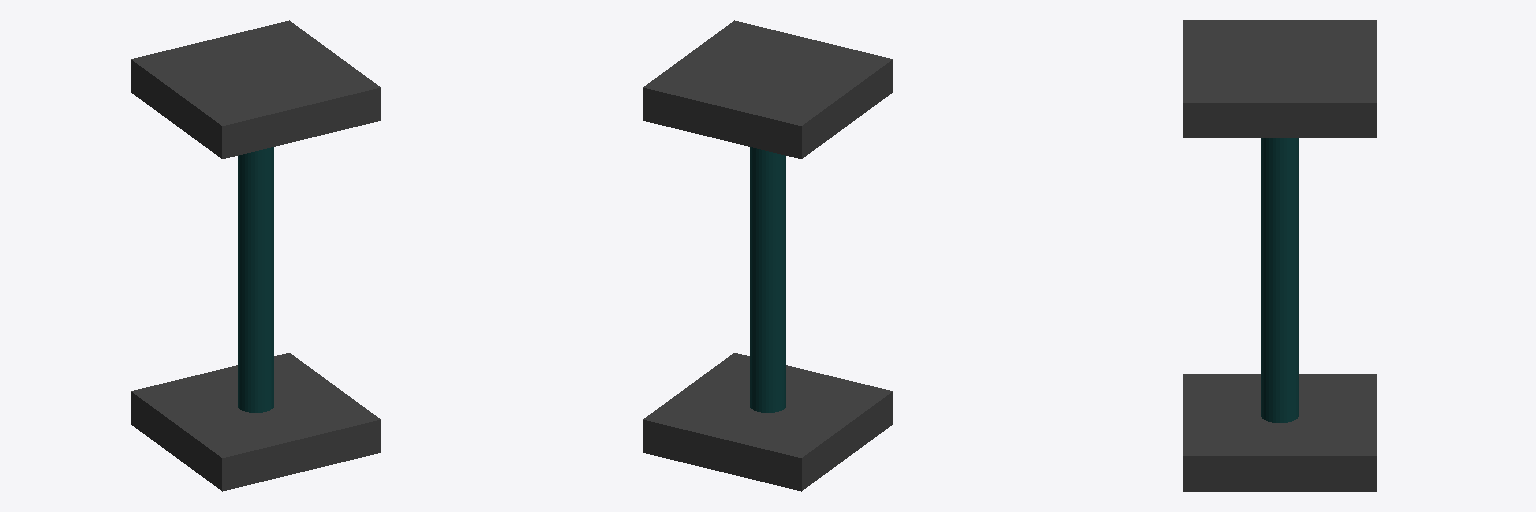
The robot description file, URDF, robot "linkage":
<robot name = "linkage">
      
		<link name = "base_link">	</link>


	    
		<link name = "link A"> 
			<inertial>

				<origin xyz = "0 0 0" />
				<mass value = "0.5" />
				<inertia ixx = "0.5"  iyy = "0.5" izz = "0.5" 
				ixy = "0" ixz = "0" iyz = "0" />
			</inertial>
			<visual>
				<origin xyz = "0 0 0" />
				<geometry>
						<box size = "0.5 0.5 0.1" />
				</geometry>
				<material name = "gray A">
					<color rgba = "0.3 0.3 0.3 1" />
				</material>
			</visual>
		</link >




		<link name = "link B"> 
			<inertial>

				<origin xyz = "0 0 -0.2" />
				<mass value = "0.5" />
				<inertia 
				ixx = "0.5"   iyy = "0.5"      izz = "0.5" 
				ixy = "0"     ixz = "0"       iyz = "0" />

			</inertial>

			<visual>

				<origin xyz = "0 0 -0.5" />

				<geometry>
					<cylinder radius = "0.05" length = "1"  />
				</geometry>

				<material name = "gray b">
					<color rgba = "0.10 0.3 0.3 1" />
				</material>

			</visual>
		</link >



		<link name = "link C"> 
			<inertial>

				<origin xyz = "0 0 0" />
				<mass value = "0.5" />
				<inertia ixx = "0.5"  iyy = "0.5" izz = "0.5" 
				ixy = "0" ixz = "0" iyz = "0" />
			</inertial>
			<visual>
				<origin xyz = "0 0 0" />
				<geometry>
						<box size = "0.5 0.5 0.1" />
				</geometry>
				<material name = "gray A">
					<color rgba = "0.3 0.3 0.3 1" />
				</material>
			</visual>
		</link >

<joint name = "joint C" type = "prismatic">
		<parent link = "base_link" />
		<child  link = "link B" />
		<origin xyz = "0 0 -1" />
		<axis xyz = "0 1 0" />
		    <limit lower="0.0" upper="0.5" effort="10" velocity="0.2"/>
		<dynamics damping ="0.002" />
</joint>


<joint name = "joint A" type = "continuous">
		<parent link = "link B" />
		<child  link = "link A" />
		<origin xyz = "0 0 0" />
		<axis xyz = "0 0 1" />
		<dynamics damping ="0.002" />
</joint>

<joint name = "joint B" type = "continuous">
		<parent link = "link B" />
		<child  link = "link C" />
		<origin xyz = "0 0 -1" />
		<axis xyz = "0 0 1" />
		<dynamics damping ="0.002" />
</joint>






</robot>

--- What the picture shows (computed from the rendered views, not written in the file) ---
Views: 3 orthographic renders of the robot side by side, from view 1: azimuth 30°, elevation 25°; view 2: azimuth 150°, elevation 25°; view 3: azimuth 270°, elevation 25°.
Model linkage with 4 links and 3 joints (2 continuous, 1 prismatic), rooted at base_link, posed every joint at zero.
Visible links, largest first — view 1: link A, link C, link B; view 2: link A, link C, link B; view 3: link A, link C, link B.
Boxes of the visible links, x1=… form: link A: x1=131, y1=20, x2=380, y2=158; link C: x1=131, y1=353, x2=380, y2=491; link B: x1=238, y1=147, x2=273, y2=412; link A: x1=643, y1=20, x2=892, y2=158; link C: x1=643, y1=353, x2=892, y2=491; link B: x1=750, y1=147, x2=785, y2=412; link A: x1=1183, y1=20, x2=1376, y2=137; link C: x1=1183, y1=374, x2=1376, y2=491; link B: x1=1261, y1=138, x2=1298, y2=422.
Size in the robot's own frame: 0.5 by 0.5 by 1.1 metres.
Geometry: primitives only (box / cylinder / sphere), no mesh files.
